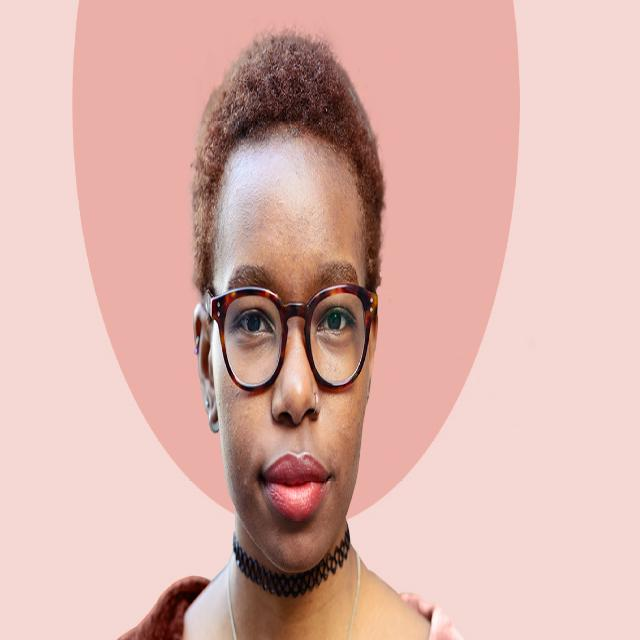Glasses: (202, 273, 380, 401)
